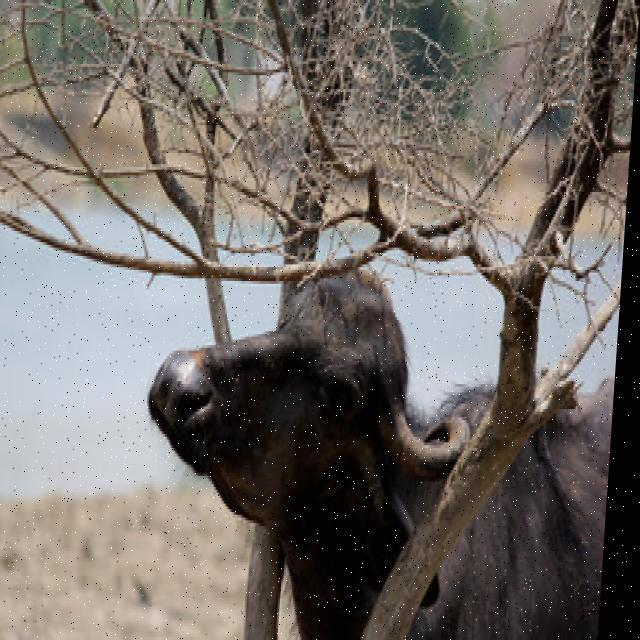Buffalo: (129, 261, 623, 640)
